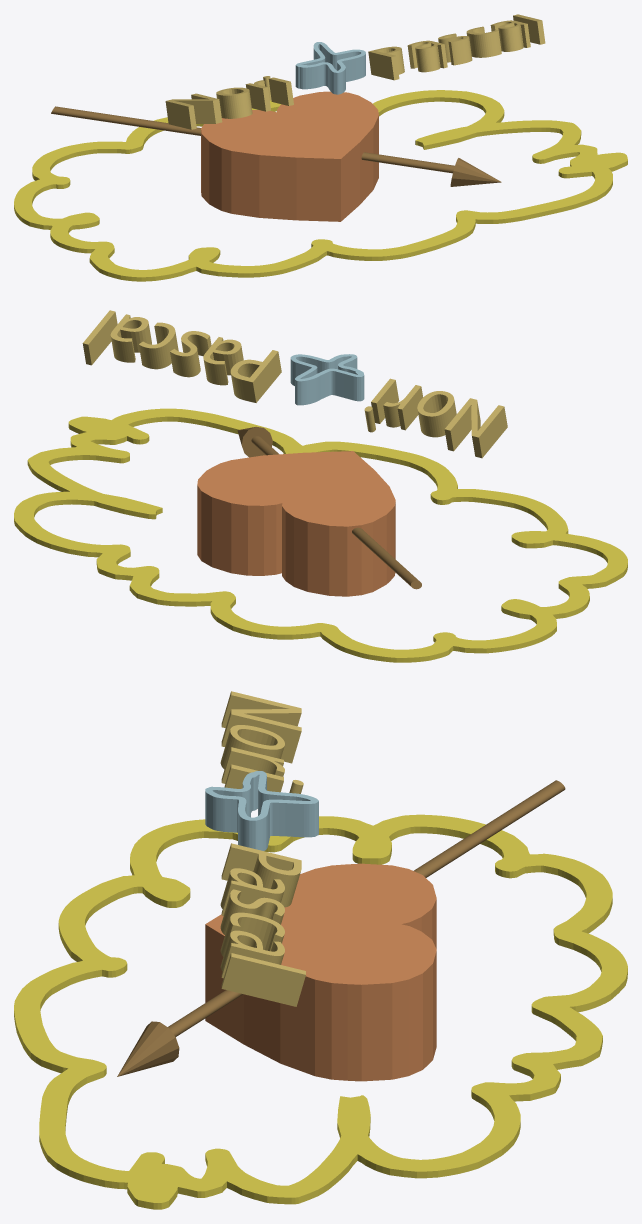
File: asset.glb
3 views of the same model, one above another, from view 1: azimuth 30°, elevation 25°; view 2: azimuth 150°, elevation 25°; view 3: azimuth 270°, elevation 25° (orthographic). The views are drawn at different scales.
Visible parts, largest first — view 1: Mesh_Mesh_head_geo.001_lambert2SG.001; view 2: Mesh_Mesh_head_geo.001_lambert2SG.001; view 3: Mesh_Mesh_head_geo.001_lambert2SG.001.
Boxes of the visible parts, x1=… form: Mesh_Mesh_head_geo.001_lambert2SG.001: x1=14, y1=14, x2=627, y2=281; Mesh_Mesh_head_geo.001_lambert2SG.001: x1=14, y1=310, x2=627, y2=662; Mesh_Mesh_head_geo.001_lambert2SG.001: x1=14, y1=691, x2=627, y2=1209.
Size of the model in its own units: 250 by 69 by 167.
